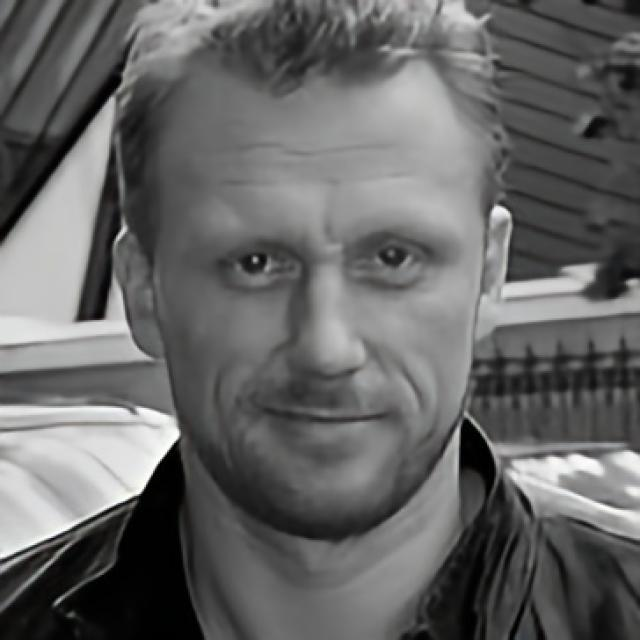content: (158, 79, 480, 526)
